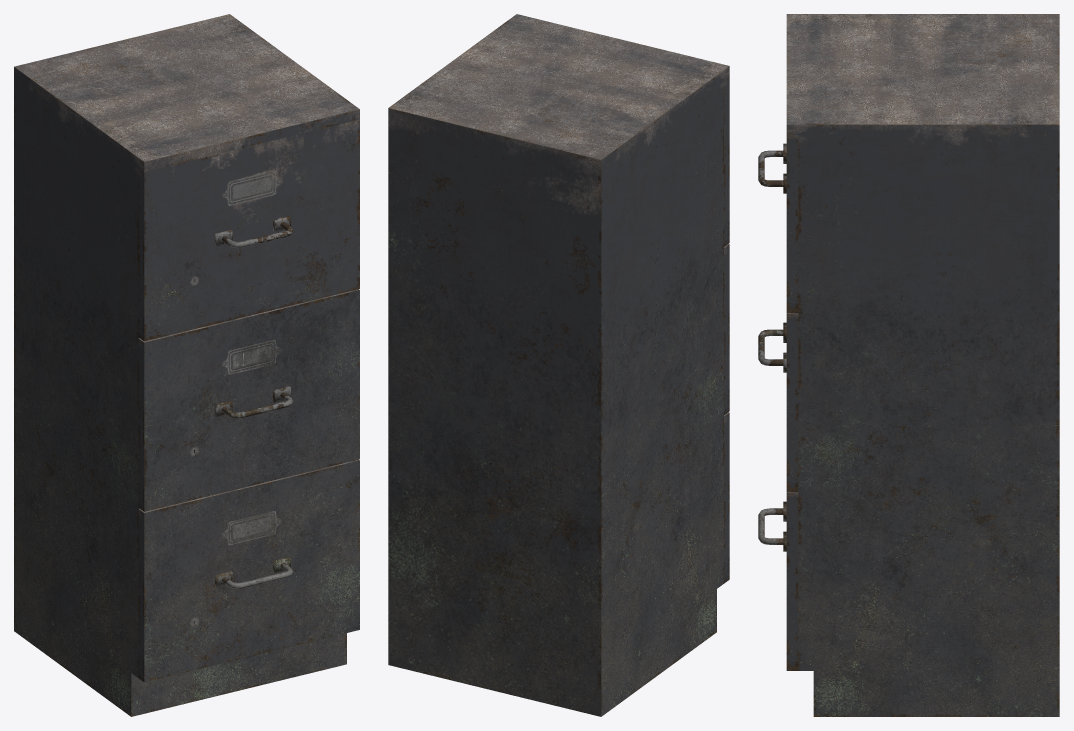
The model's file is ArchiveDrawersClosed.fbx.
The picture shows the model from 3 angles, left to right: view 1: azimuth 30°, elevation 25°; view 2: azimuth 150°, elevation 25°; view 3: azimuth 270°, elevation 25°; orthographic projection. The views are drawn at different scales.
Parts seen in each view (by area): view 1: ArchiveDrawersClosed; view 2: ArchiveDrawersClosed; view 3: ArchiveDrawersClosed.
Boxes of the visible parts, box(x1,y1,x2,y2) form: ArchiveDrawersClosed: box(14, 14, 359, 716); ArchiveDrawersClosed: box(388, 14, 729, 716); ArchiveDrawersClosed: box(758, 14, 1059, 716).
Size of the model in its own units: 40 by 100 by 46.13.
